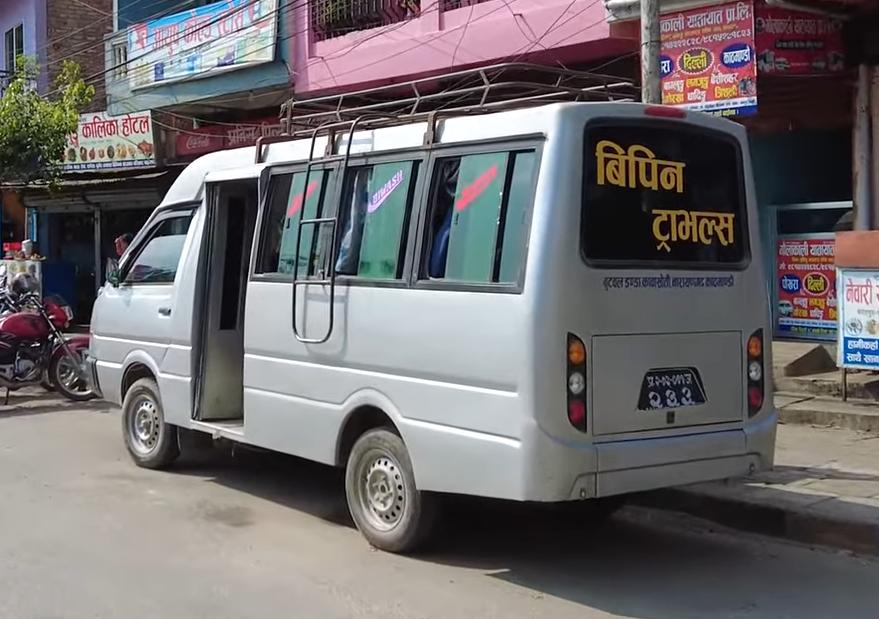bike: (0, 289, 106, 406)
micro_bus: (84, 85, 776, 562)
